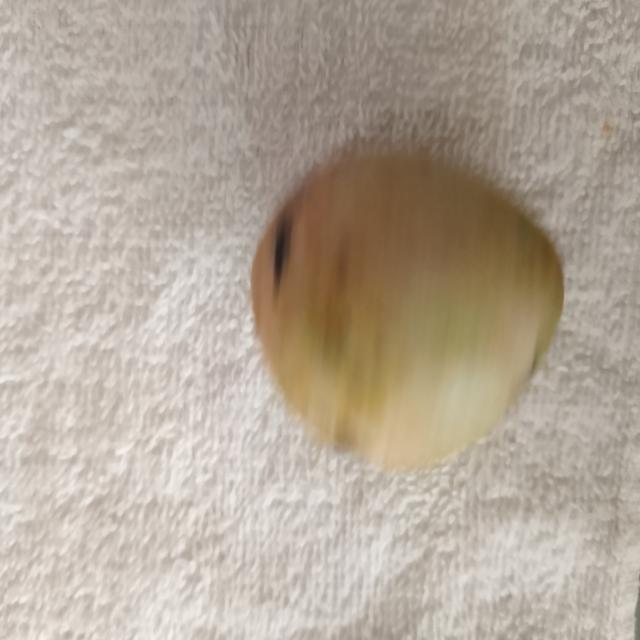mango: (245, 140, 572, 474)
